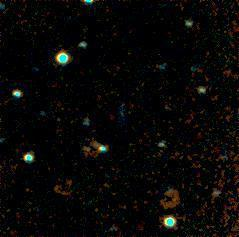star: (45, 103, 75, 133)
